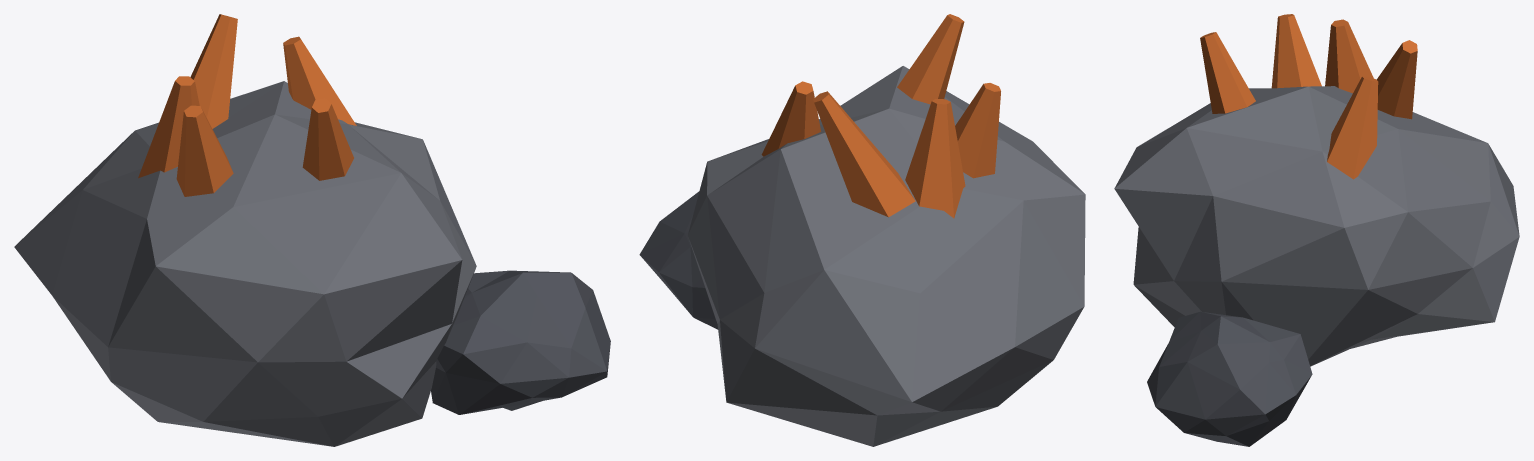
The model's file is RockCopper.obj.
3 renders of one model, left to right at view 1: azimuth 30°, elevation 25°; view 2: azimuth 150°, elevation 25°; view 3: azimuth 270°, elevation 25°, orthographic. The views are drawn at different scales.
Parts seen in each view (by area): view 1: RockCopper; view 2: RockCopper; view 3: RockCopper.
Boxes of the visible parts, bbox=[...] form: RockCopper: bbox=[14, 14, 610, 446]; RockCopper: bbox=[639, 14, 1085, 446]; RockCopper: bbox=[1114, 14, 1519, 446].
Bounding box in the file's own units: 4.17 × 3.13 × 3.6.
